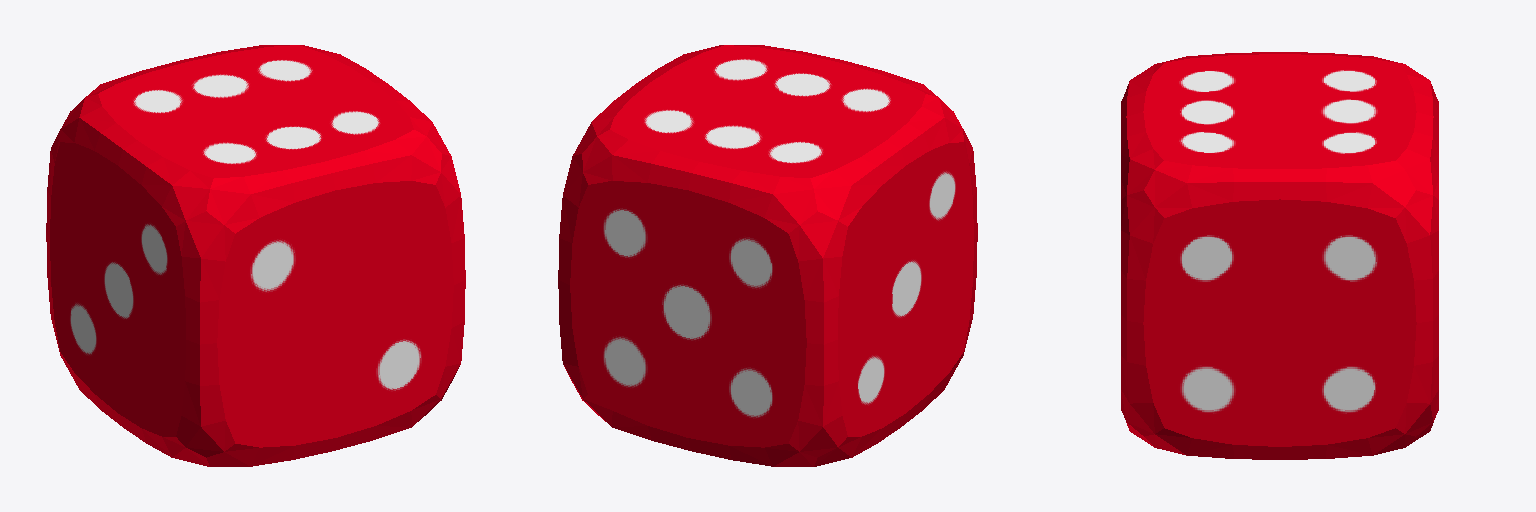
The picture shows the model from 3 angles: view 1: azimuth 30°, elevation 25°; view 2: azimuth 150°, elevation 25°; view 3: azimuth 270°, elevation 25°; orthographic projection.
Visible parts, largest first — view 1: Cube_Cube.001; view 2: Cube_Cube.001; view 3: Cube_Cube.001.
Part boxes in pixels (x1,y1,x2,y2): Cube_Cube.001: (46, 45, 465, 466); Cube_Cube.001: (558, 45, 977, 466); Cube_Cube.001: (1121, 52, 1438, 459).
Size of the model in its own units: 2 by 2 by 2.
1 materials, 1 textured.